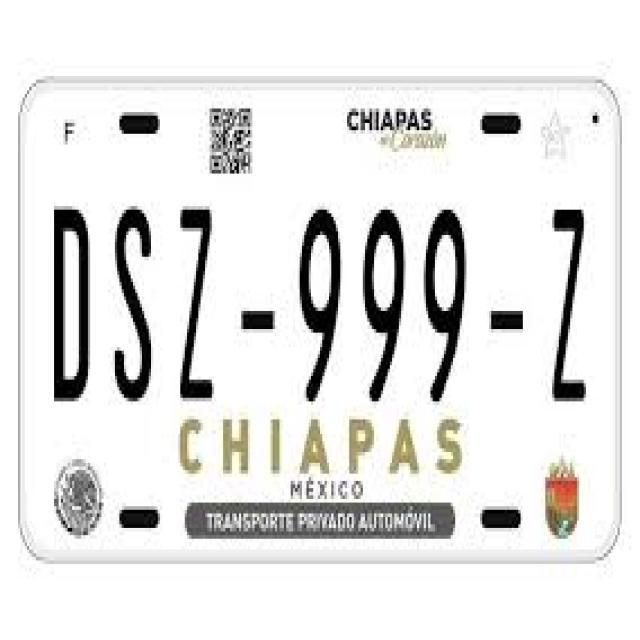placa: (29, 177, 608, 415)
